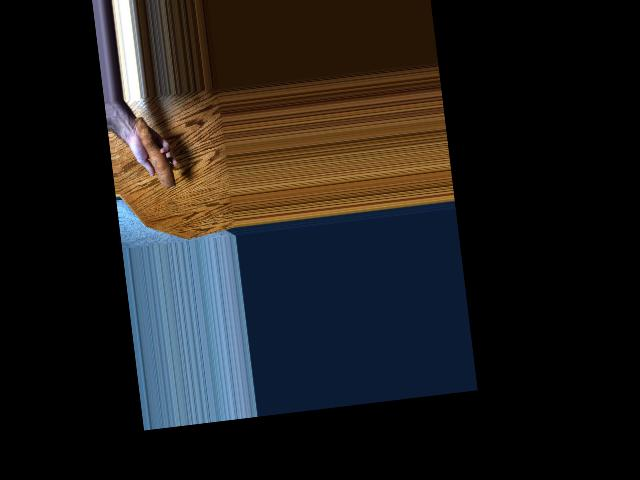sweet_potato: (132, 115, 177, 191)
